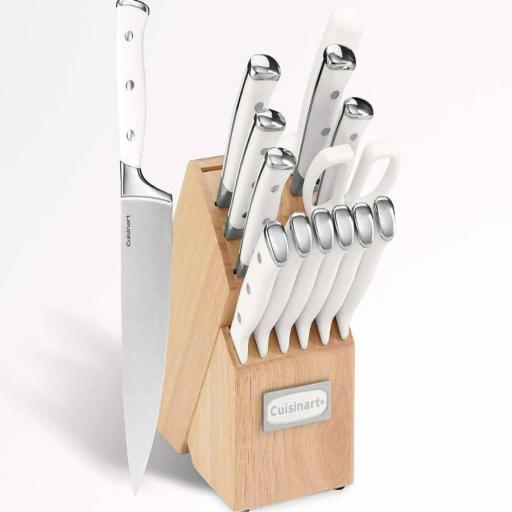knife: (114, 0, 173, 500)
